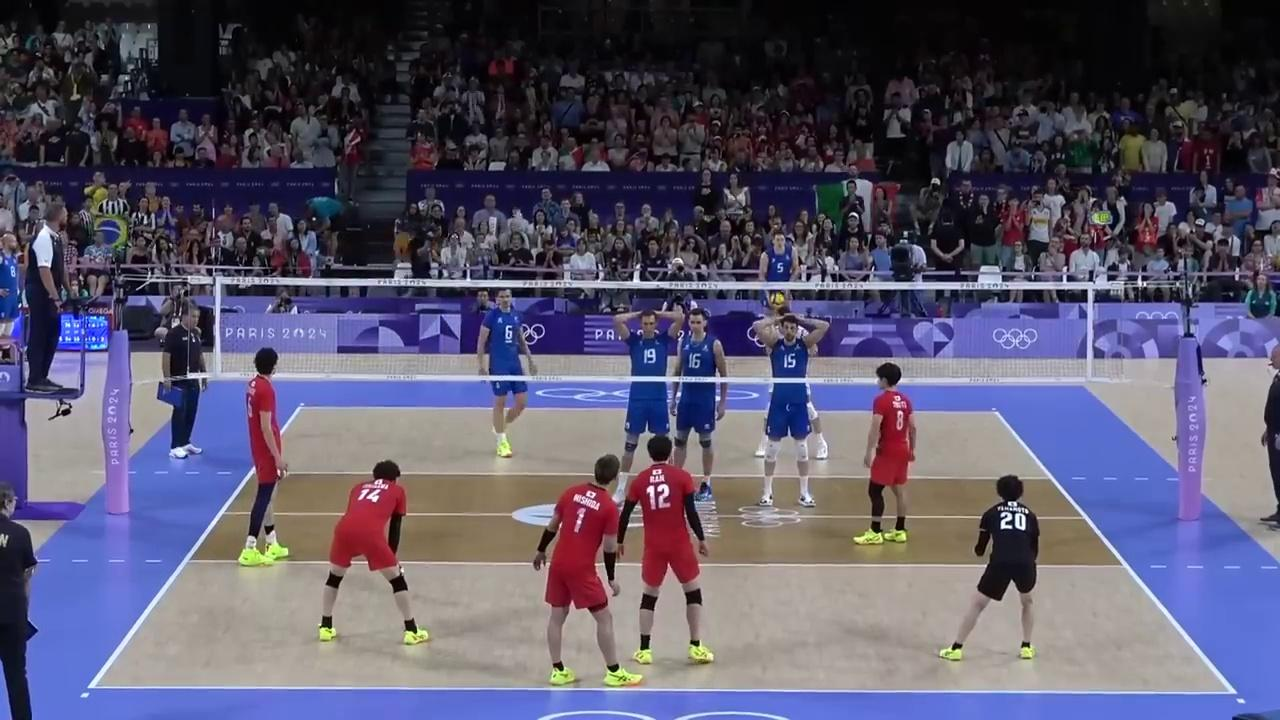ball: (769, 293, 786, 309)
